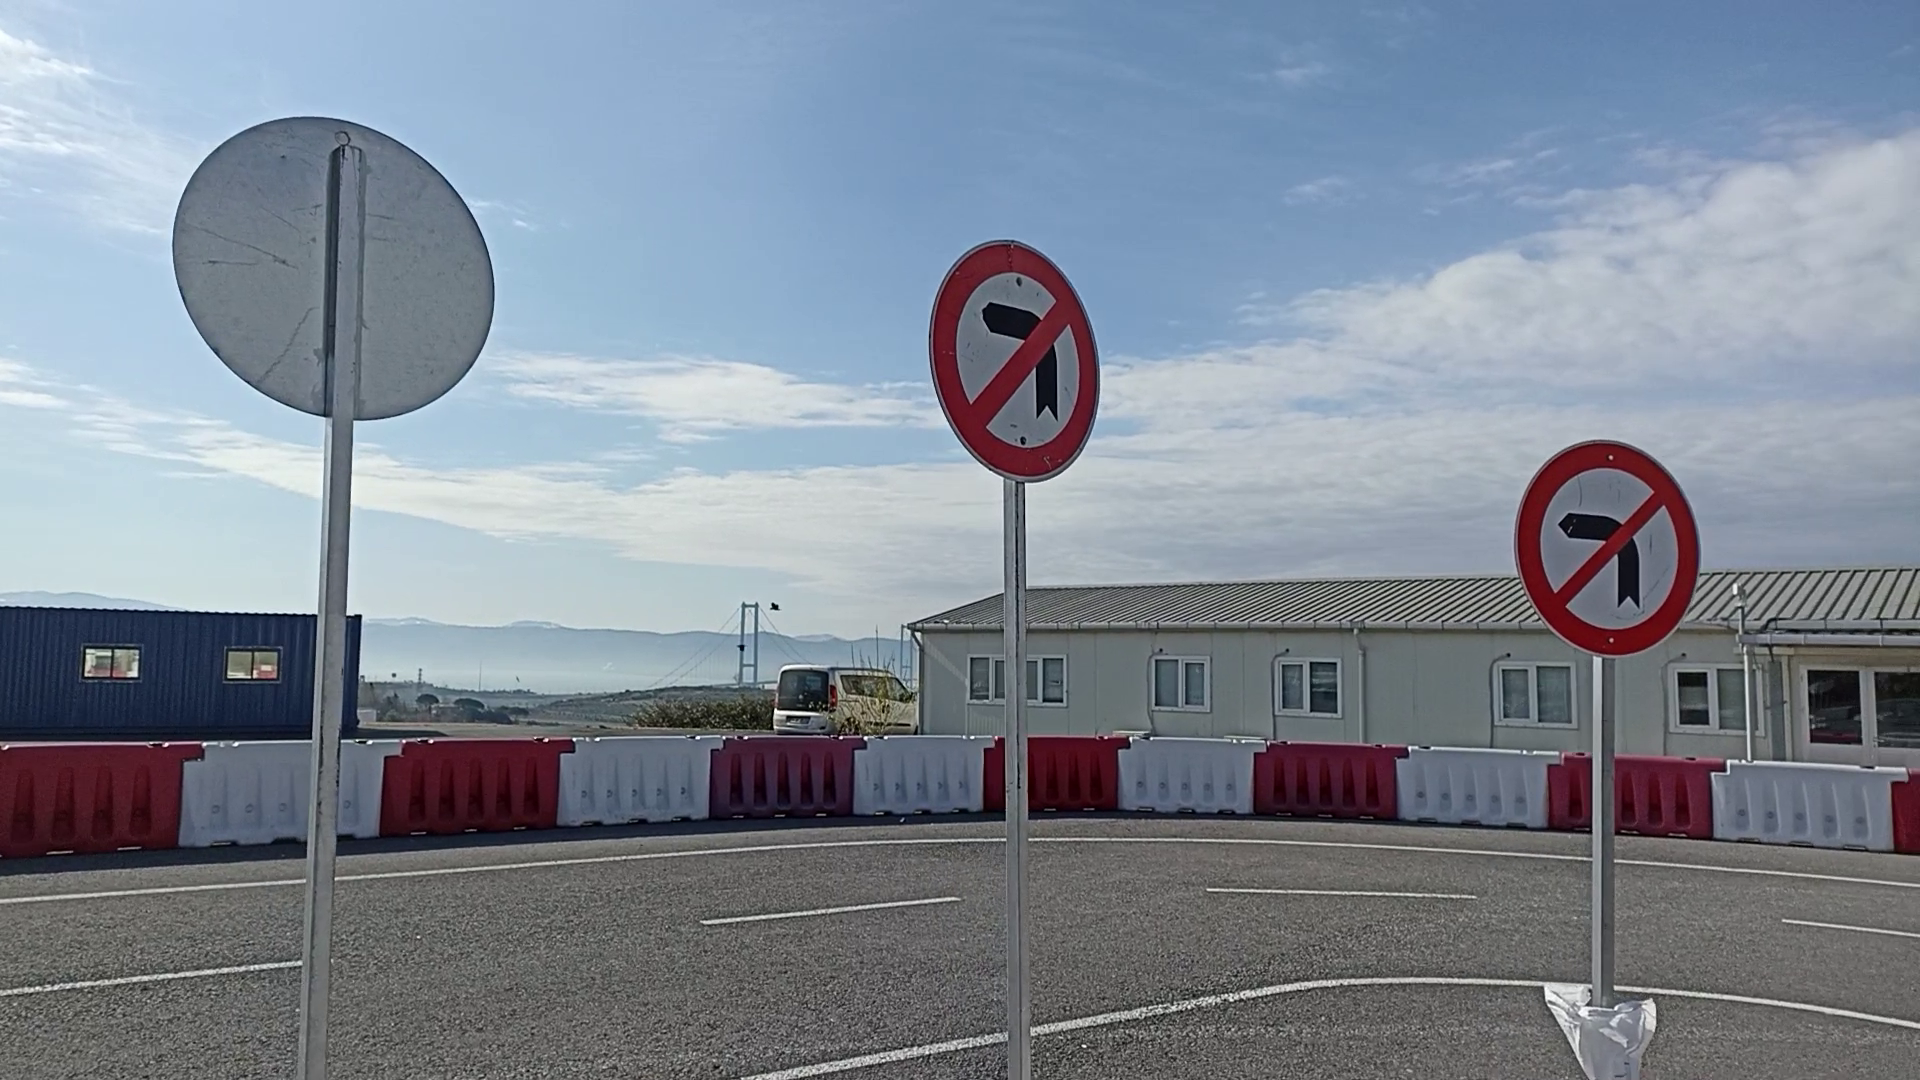noleft: (926, 237, 1102, 485), (1511, 438, 1705, 659)
